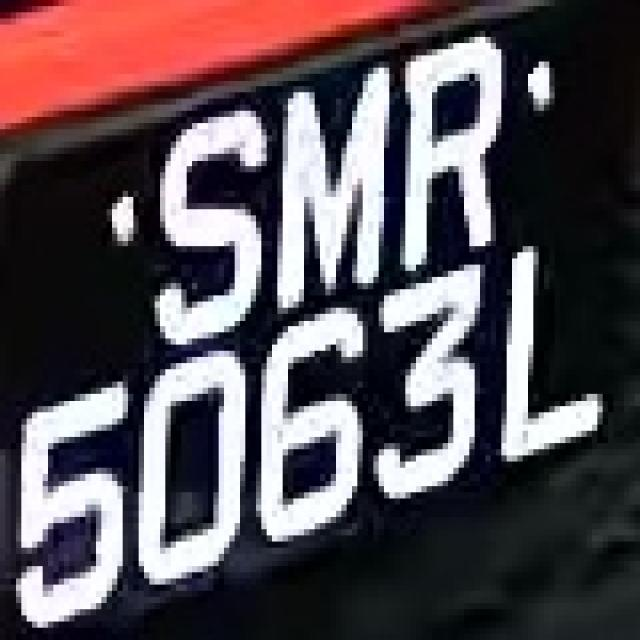0: (122, 351, 250, 591)
3: (373, 240, 480, 511)
5: (11, 375, 133, 628)
6: (246, 314, 390, 541)
L: (496, 234, 613, 474)
M: (278, 49, 406, 302)
R: (400, 24, 507, 270)
S: (138, 98, 266, 357)
